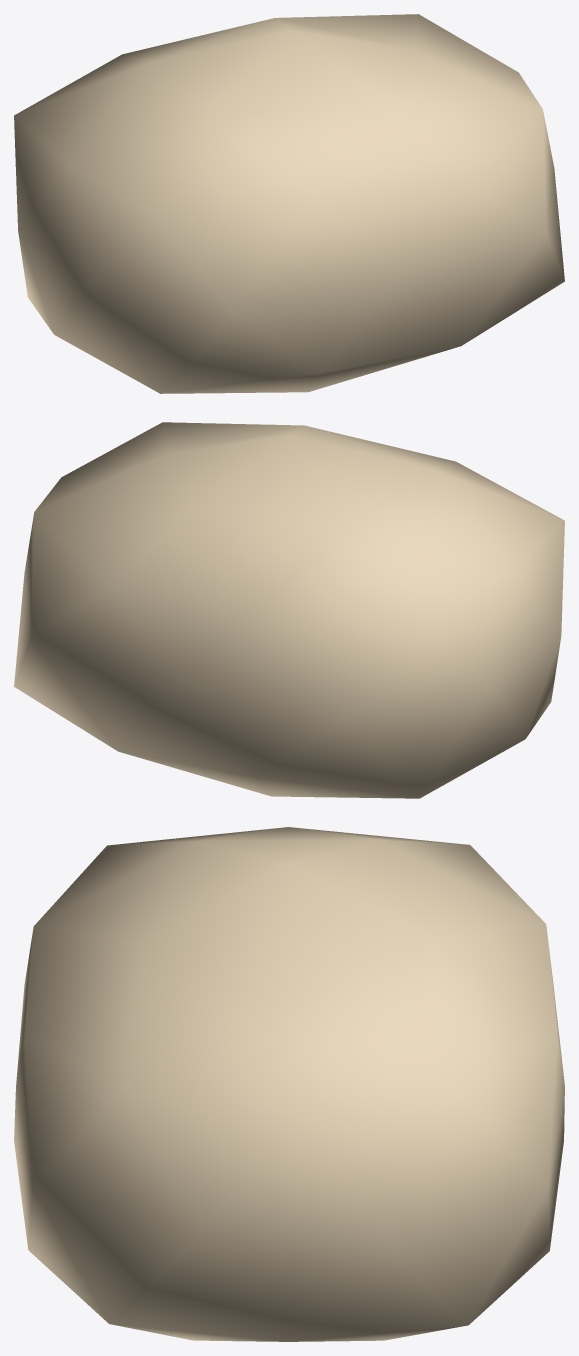
The model's file is RUBBEL_KIESEL_0.glb.
3 renders of one model, top to bottom at view 1: azimuth 30°, elevation 25°; view 2: azimuth 150°, elevation 25°; view 3: azimuth 270°, elevation 25°, orthographic. The views are drawn at different scales.
Visible parts, largest first — view 1: RUBBEL_KIESEL_0; view 2: RUBBEL_KIESEL_0; view 3: RUBBEL_KIESEL_0.
Part boxes in pixels (x1,y1,x2,y2): RUBBEL_KIESEL_0: (14, 14, 564, 393); RUBBEL_KIESEL_0: (14, 422, 564, 798); RUBBEL_KIESEL_0: (14, 827, 564, 1341).
Size of the model in its own units: 0.2651 by 0.19 by 0.2072.
